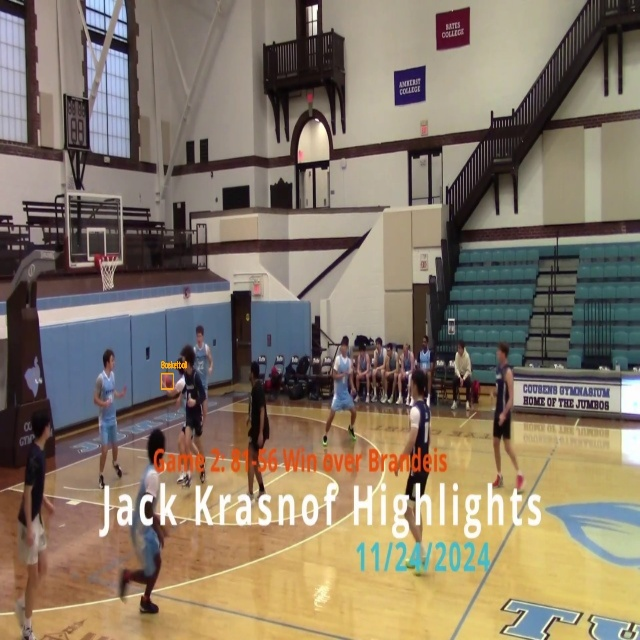Basketball: (161, 373, 173, 389)
